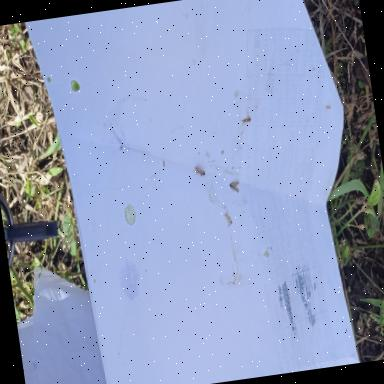pbw: (238, 110, 252, 127), (192, 164, 208, 178), (228, 181, 240, 192), (224, 212, 234, 225)
